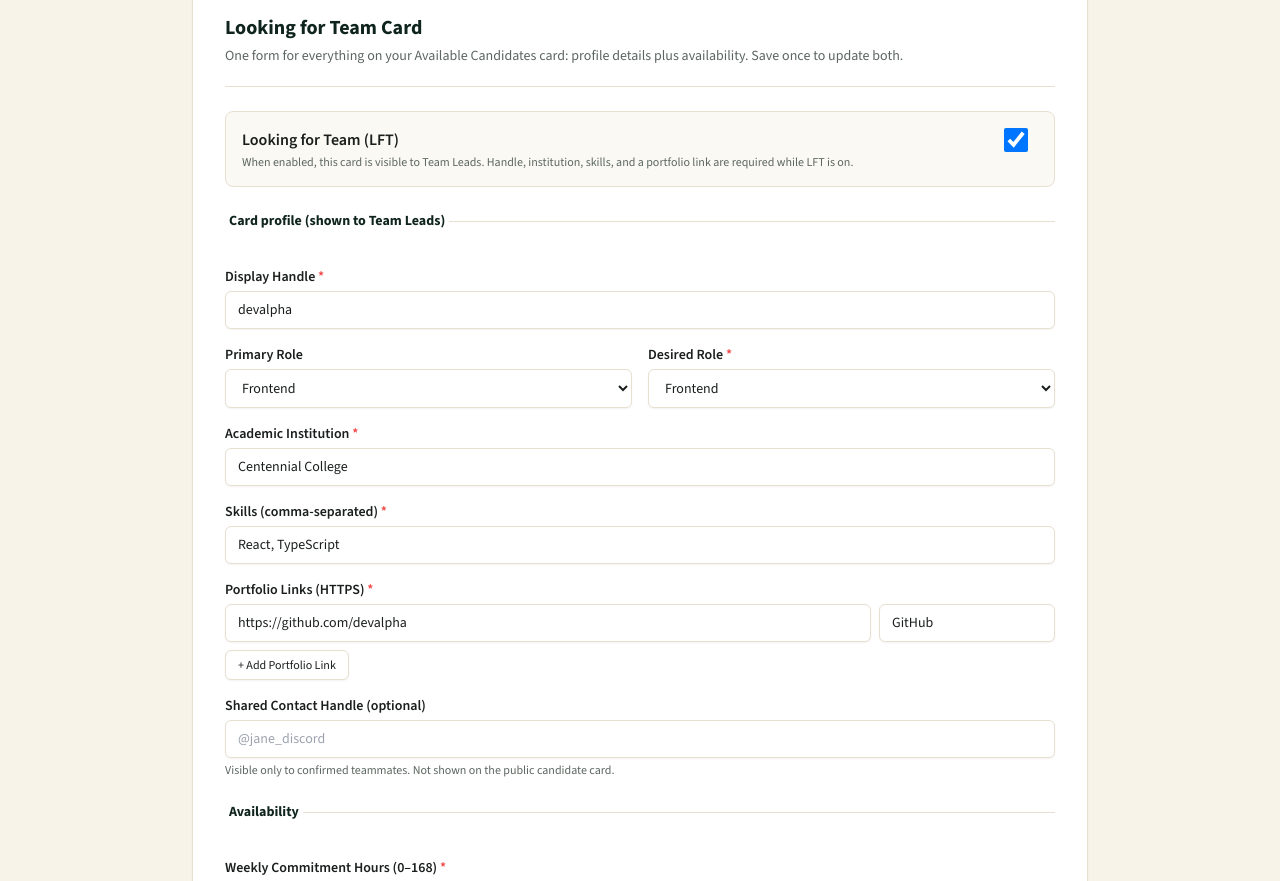
Scenario: LookingForTeamPage Component (US-011 / #US-288) › handles turning off Looking-for-Team status without error (AC 1 & AC 4)
# Uncheck toggle
Click the switch labelled "Looking for Team (LFT)" at (1016,140), box [994, 128, 1038, 152]
(page scrolled)
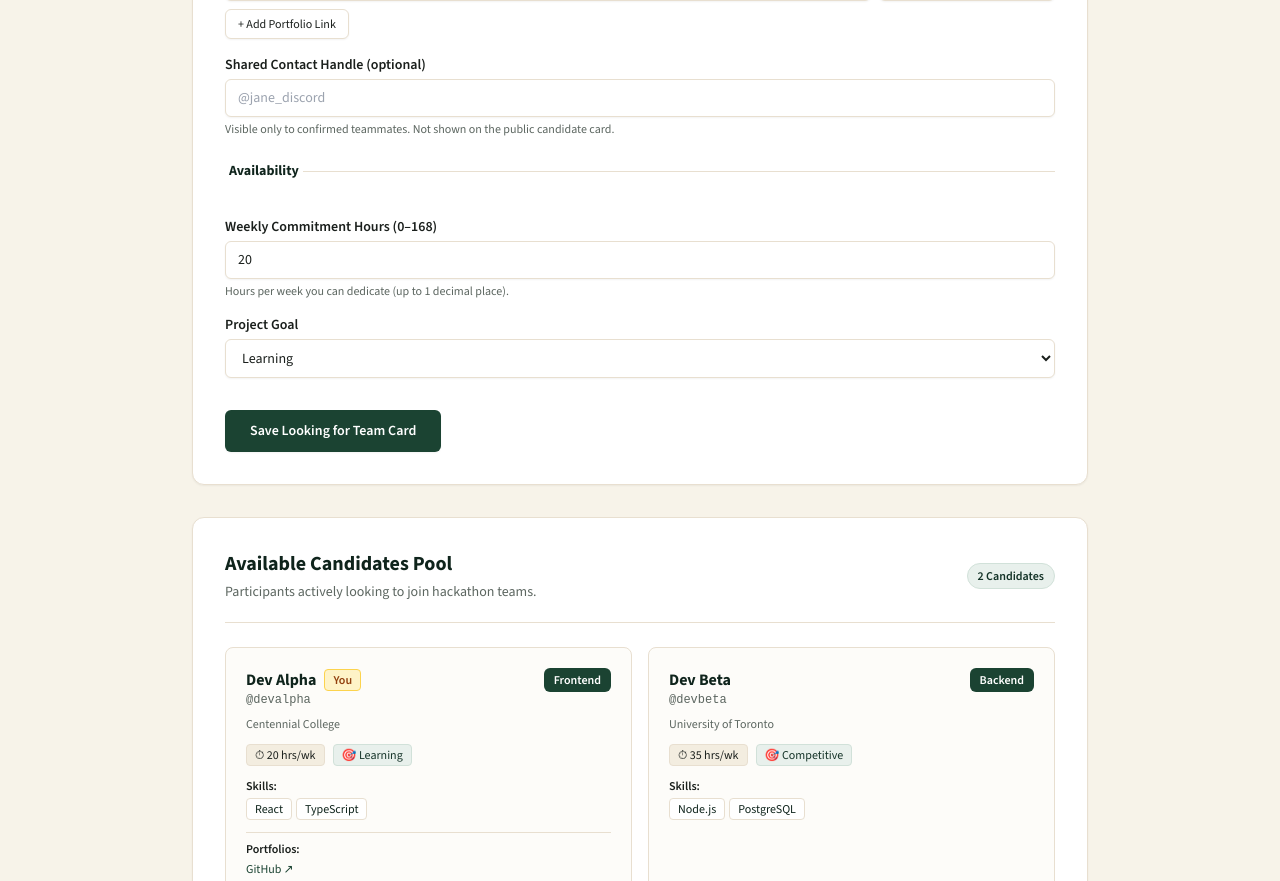
Click the button "Save Looking for Team Card" at (333,431), box [225, 410, 441, 452]
(page scrolled)
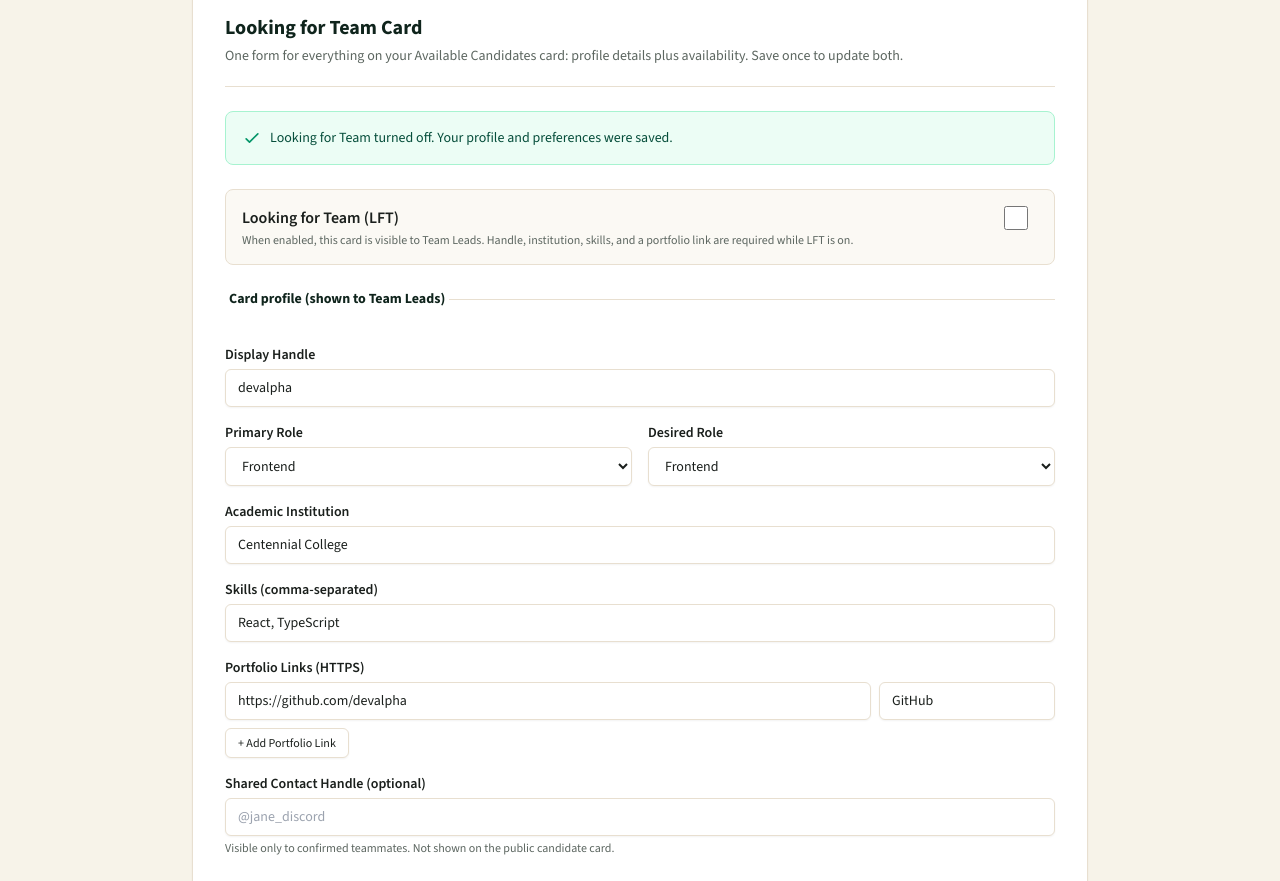
Check: the message shows "Looking for Team turned off", box [270, 128, 673, 147]
